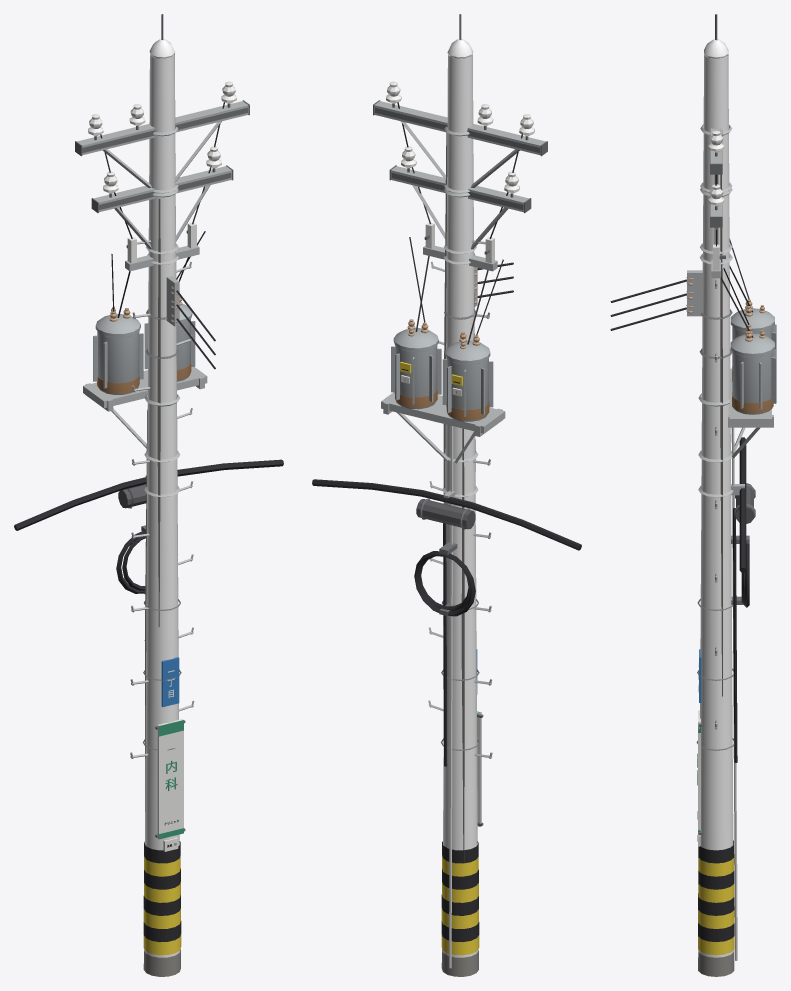
File: utility_pole.glb
3 views of the same model, side by side, from view 1: azimuth 30°, elevation 25°; view 2: azimuth 150°, elevation 25°; view 3: azimuth 270°, elevation 25° (orthographic).
Parts seen in each view (by area): view 1: utility_pole_body; view 2: utility_pole_body; view 3: utility_pole_body.
Part boxes in pixels (bbox=[...]): utility_pole_body: bbox=[14, 14, 283, 976]; utility_pole_body: bbox=[312, 14, 581, 976]; utility_pole_body: bbox=[610, 14, 776, 976].
Size of what is drawn, in the model's own units: 3.21 by 10.95 by 1.73.
